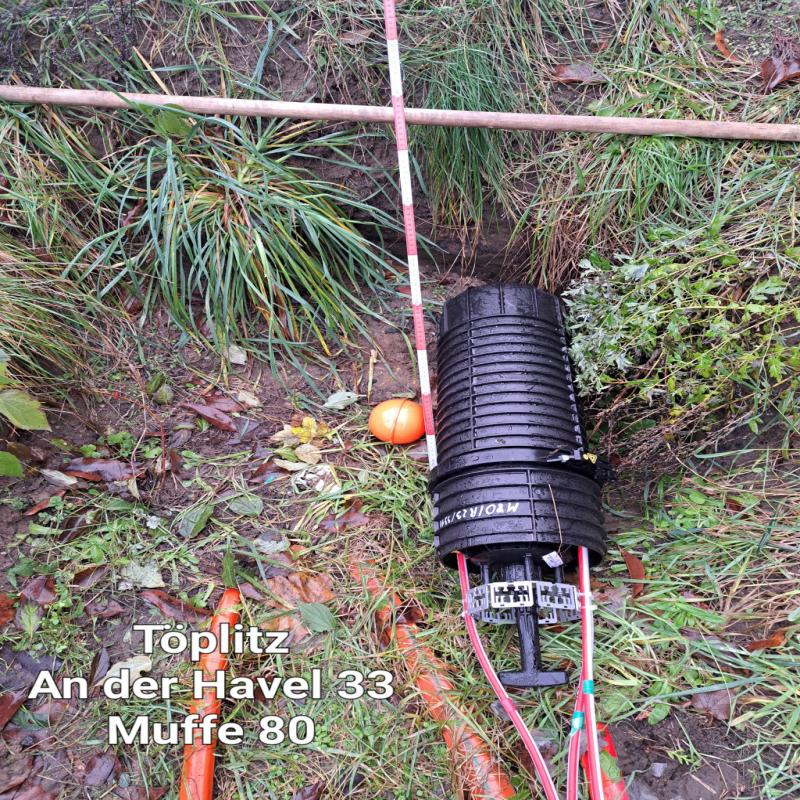Kugelmarker: (371, 398, 425, 443)
NT-Muffen: (423, 284, 609, 698)
Orang-Speednetrohrchen: (377, 605, 515, 797), (180, 591, 237, 800)
